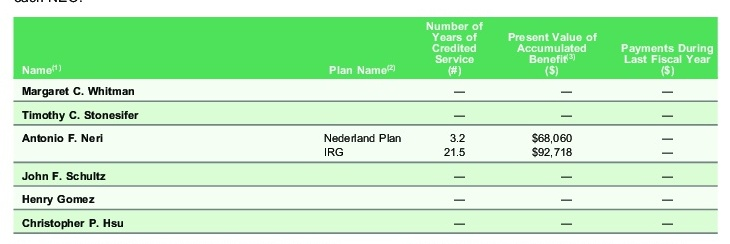table: (0, 0, 730, 244)
